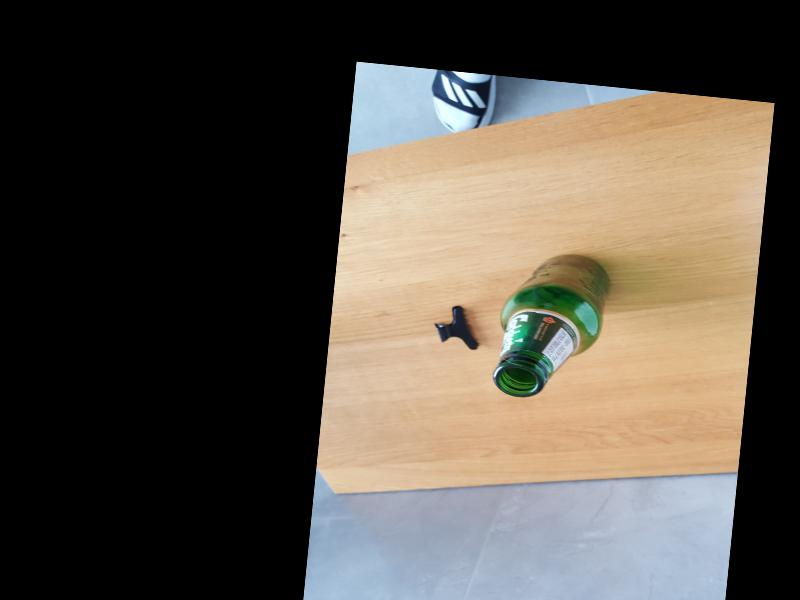Beer: (490, 246, 613, 404)
